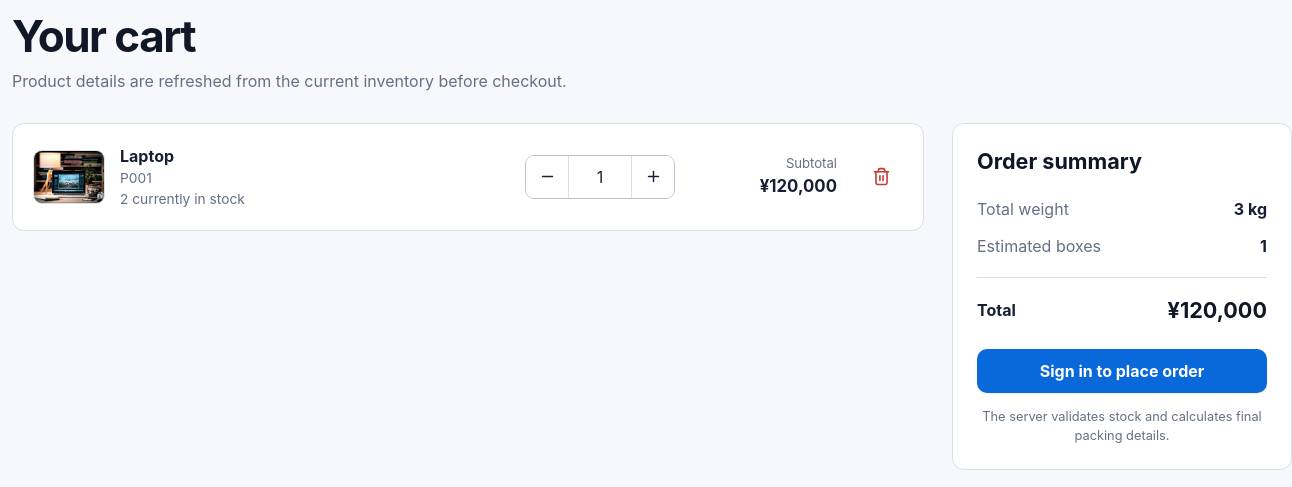
CartPage › rejects invalid quantity without changing the cart in en
Clear the number field named "Quantity for Laptop" at x=600, y=177, box [568,156,632,198]
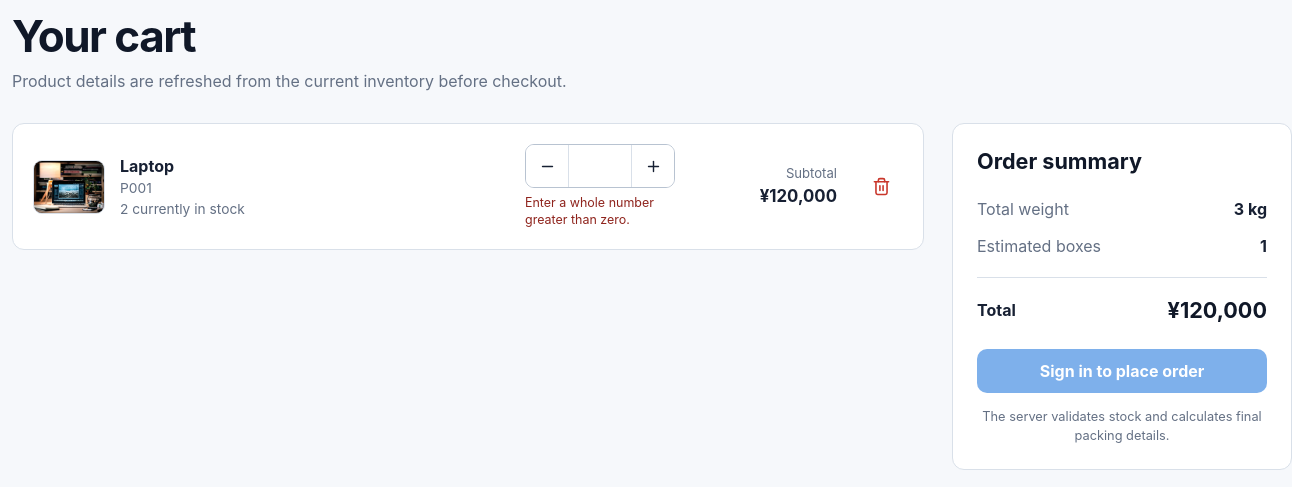
Result: the message reads "Enter a whole number greater than zero." at [525,195,654,227]
Type "0" into the number field named "Quantity for Laptop".
click(600, 166); type("0")  # box [568,145,632,187]
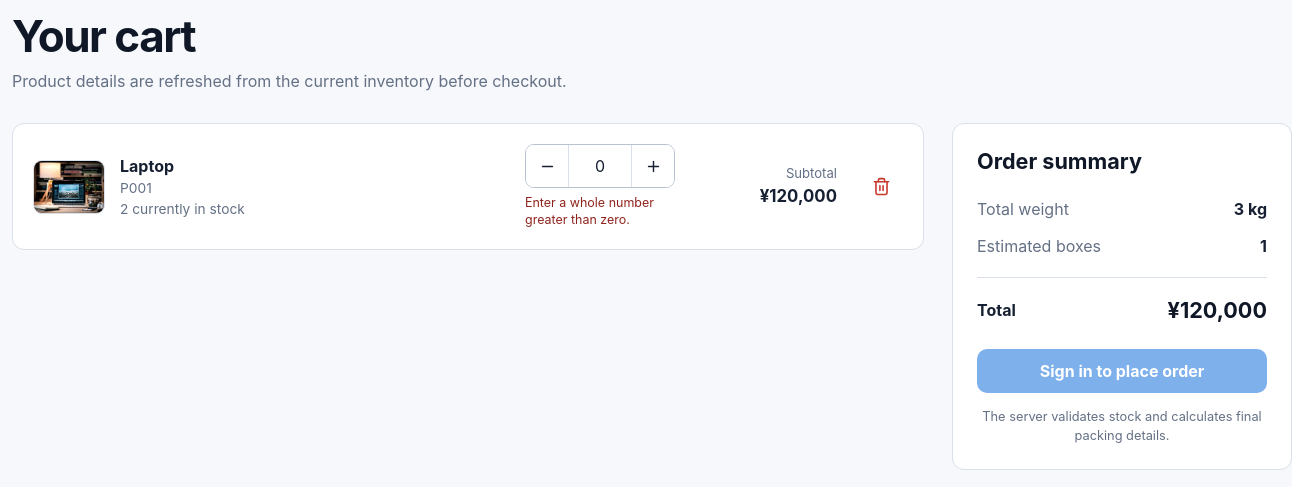
Result: the message reads "Enter a whole number greater than zero." at [525,195,654,227]
Replace the text in the number field named "Quantity for Laptop" with "-1" at x=600, y=166, box [568,145,632,187]
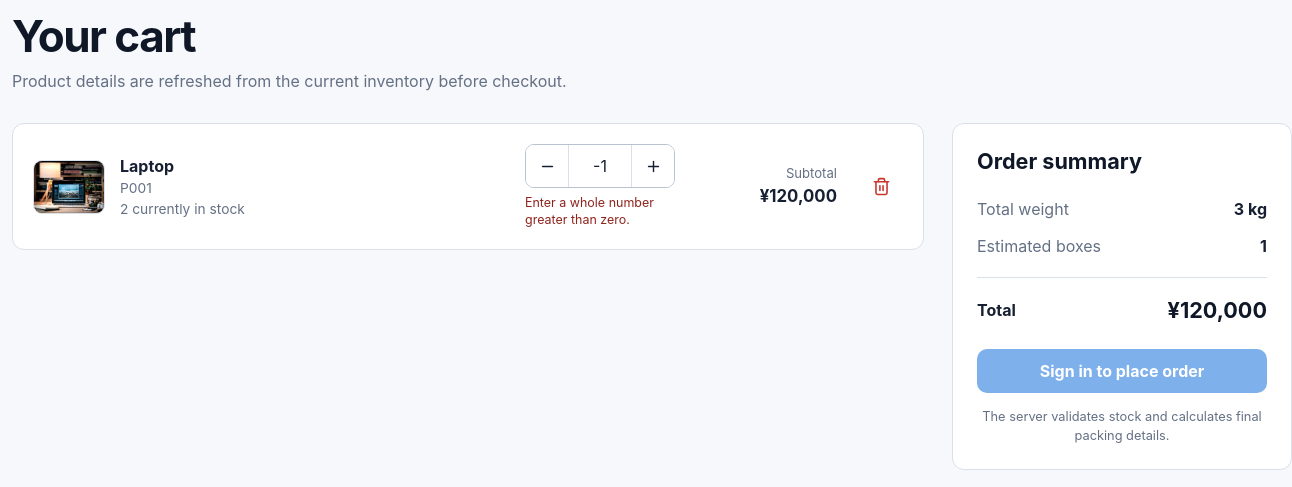
Result: the message reads "Enter a whole number greater than zero." at [525,195,654,227]
Replace the text in the number field named "Quantity for Laptop" with "1.5" at x=600, y=166, box [568,145,632,187]
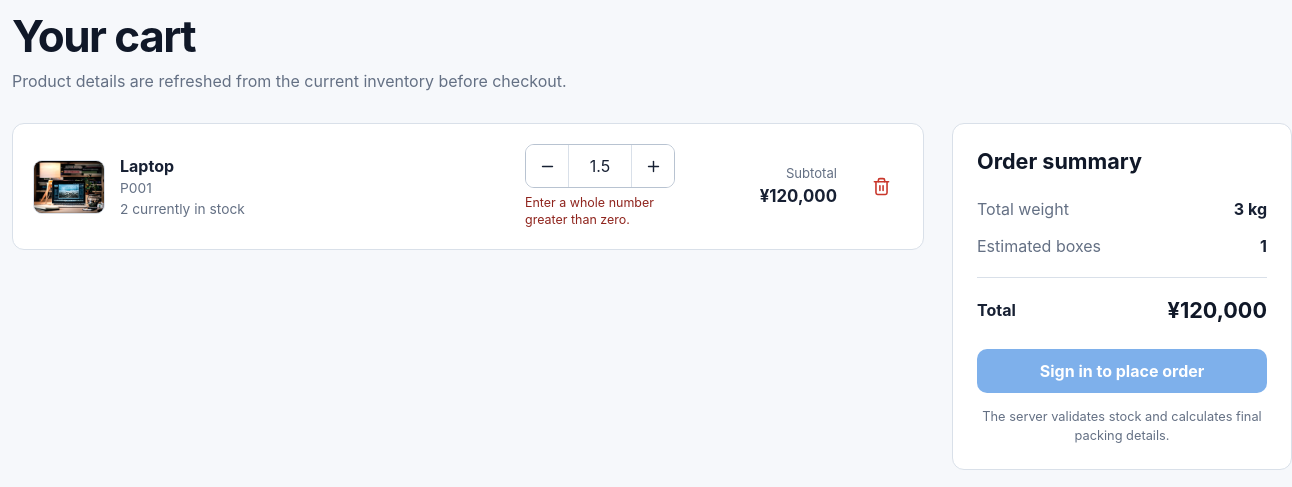
Result: the message reads "Enter a whole number greater than zero." at [525,195,654,227]
Replace the text in the number field named "Quantity for Laptop" with "2" at x=600, y=166, box [568,145,632,187]
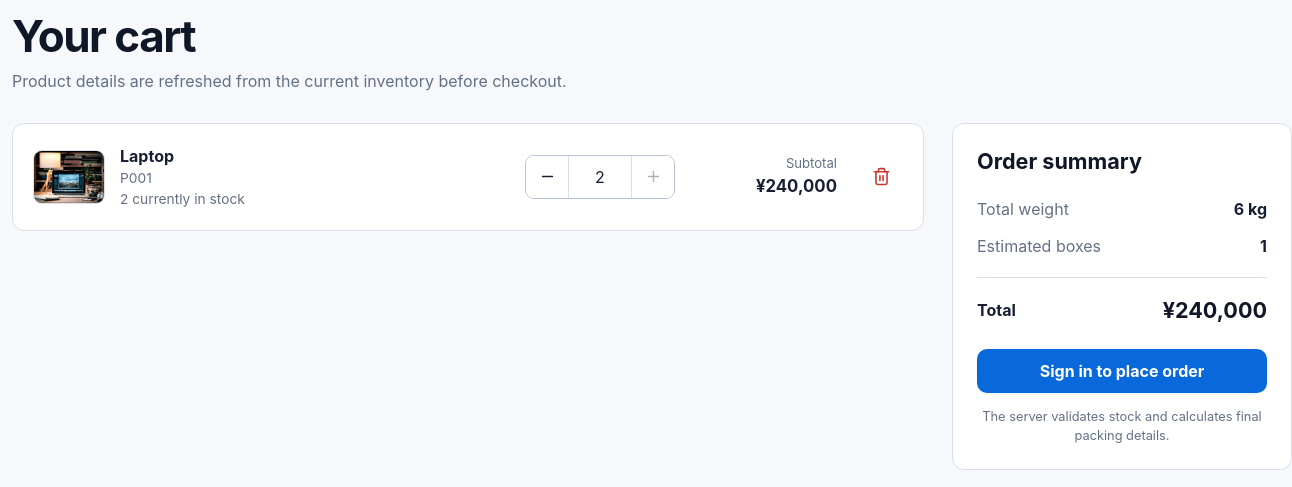
Result: the message "Enter a whole number greater than zero." is gone
